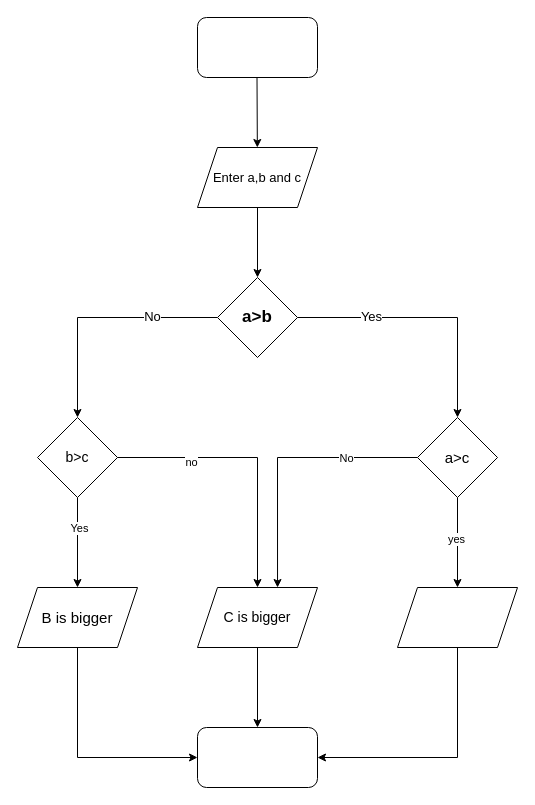
This 535x805 diagram has some shape labels left out. The box of each missing label's shape, as (x1, y1, x2, y2) in pixels:
A is bigger: (396, 586, 518, 648)
Start: (196, 16, 318, 78)
Stop: (196, 726, 318, 788)
